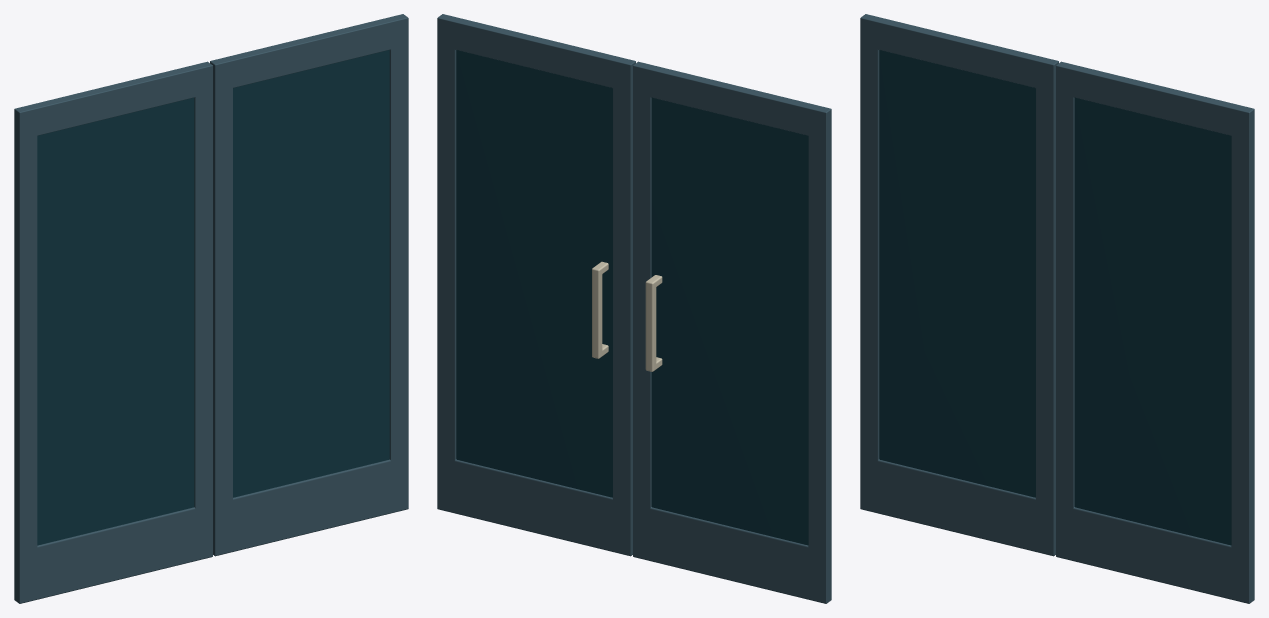
File: city_shop_fittings_06_double.glb
3 views of the same model, side by side, from view 1: azimuth 30°, elevation 25°; view 2: azimuth 150°, elevation 25°; view 3: azimuth 330°, elevation 25° (orthographic).
Parts seen in each view (by area): view 1: double_leaf_1_glazing, double_leaf_2_glazing, double_leaf_1_stiles_rails, double_leaf_2_stiles_rails; view 2: double_leaf_1_glazing, double_leaf_2_glazing, double_leaf_1_stiles_rails, double_leaf_2_stiles_rails, double_leaf_1_static_pull, double_leaf_2_static_pull; view 3: double_leaf_2_glazing, double_leaf_1_glazing, double_leaf_2_stiles_rails, double_leaf_1_stiles_rails.
Boxes of the visible parts, x1,y1,x2,y2 form: double_leaf_1_glazing: (37, 97, 194, 545); double_leaf_2_glazing: (233, 50, 389, 497); double_leaf_1_stiles_rails: (14, 61, 212, 603); double_leaf_2_stiles_rails: (210, 14, 408, 556); double_leaf_1_glazing: (651, 97, 808, 545); double_leaf_2_glazing: (456, 50, 612, 497); double_leaf_1_stiles_rails: (633, 61, 831, 603); double_leaf_2_stiles_rails: (437, 14, 635, 556); double_leaf_1_static_pull: (645, 275, 662, 371); double_leaf_2_static_pull: (592, 261, 608, 358); double_leaf_2_glazing: (1074, 97, 1231, 545); double_leaf_1_glazing: (879, 50, 1035, 497); double_leaf_2_stiles_rails: (1056, 61, 1254, 603); double_leaf_1_stiles_rails: (860, 14, 1058, 556).
Size of the model in its own units: 1.82 by 2.2 by 0.123.
